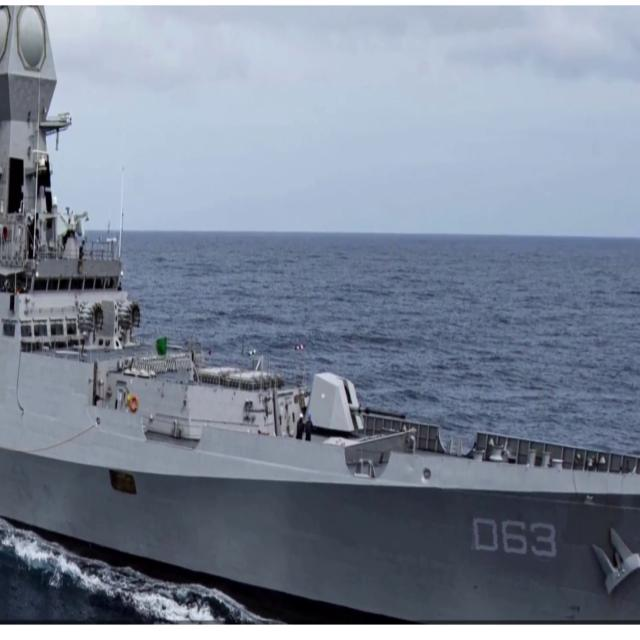OCR: (468, 511, 558, 569)
